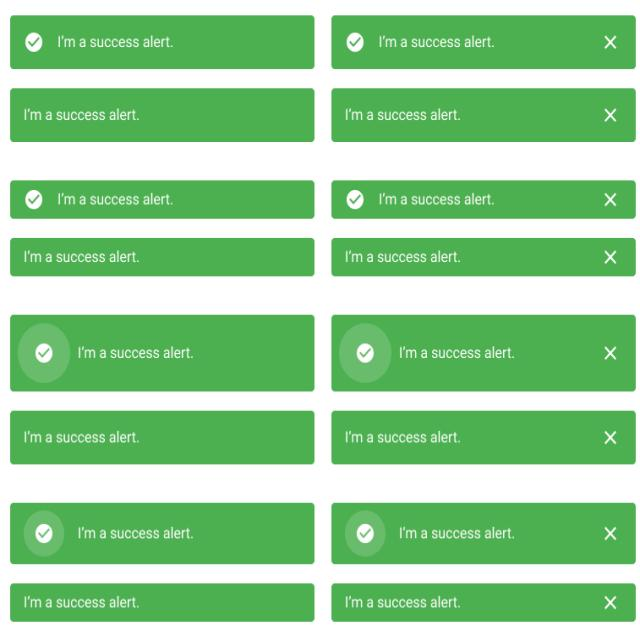QLabel: (22, 427, 141, 447), (76, 524, 194, 544), (376, 33, 495, 51), (398, 344, 516, 362), (57, 191, 174, 209), (23, 249, 140, 267), (344, 249, 461, 266), (398, 524, 515, 541), (23, 107, 139, 124), (76, 344, 195, 360), (22, 594, 141, 610), (56, 34, 174, 50), (344, 429, 462, 445), (344, 594, 462, 610), (343, 107, 461, 122), (378, 191, 495, 206)
VAlert: (9, 314, 314, 392), (331, 314, 635, 392), (331, 502, 636, 565), (11, 503, 314, 564), (331, 410, 636, 466), (9, 15, 315, 70), (10, 410, 314, 465), (331, 15, 636, 69), (331, 88, 636, 142), (10, 88, 314, 142), (330, 237, 636, 277), (10, 237, 315, 277), (10, 583, 315, 622), (331, 180, 636, 219), (331, 583, 636, 622), (10, 180, 315, 218)
